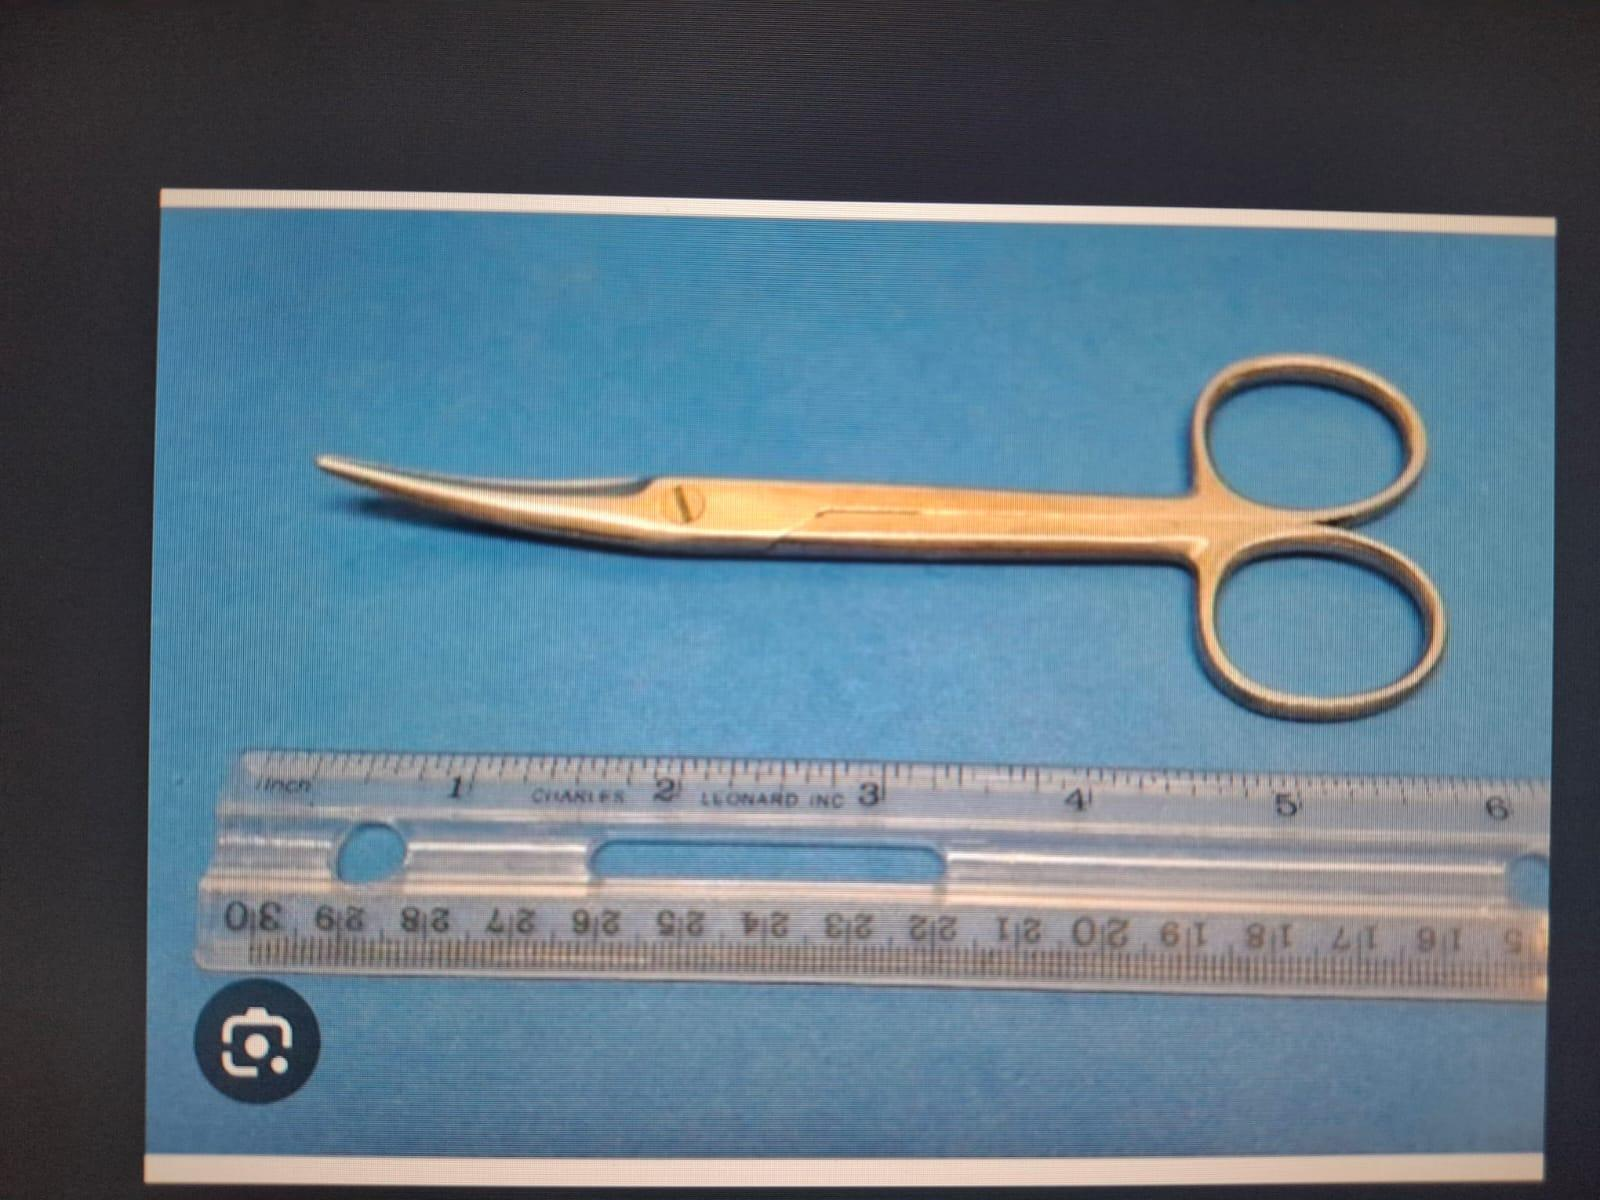Curved Mayo: (296, 334, 1458, 746)
